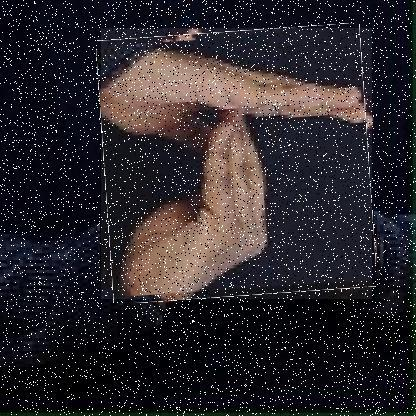Z: (101, 28, 373, 300)
